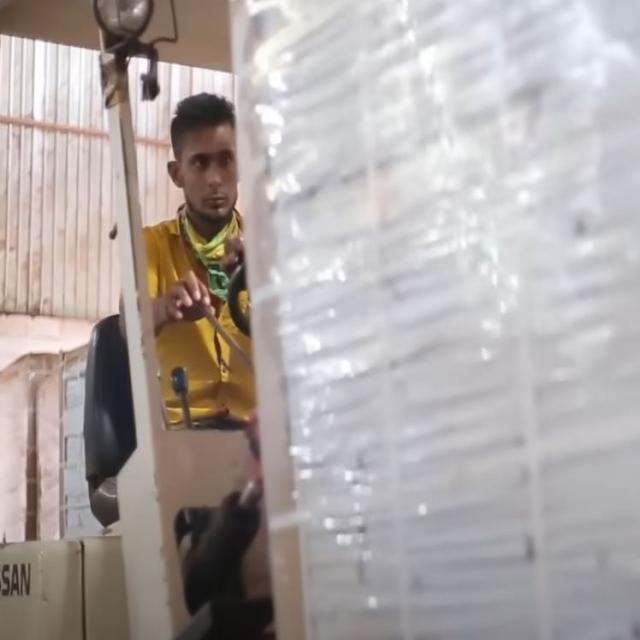bare_hand: (158, 273, 218, 328)
